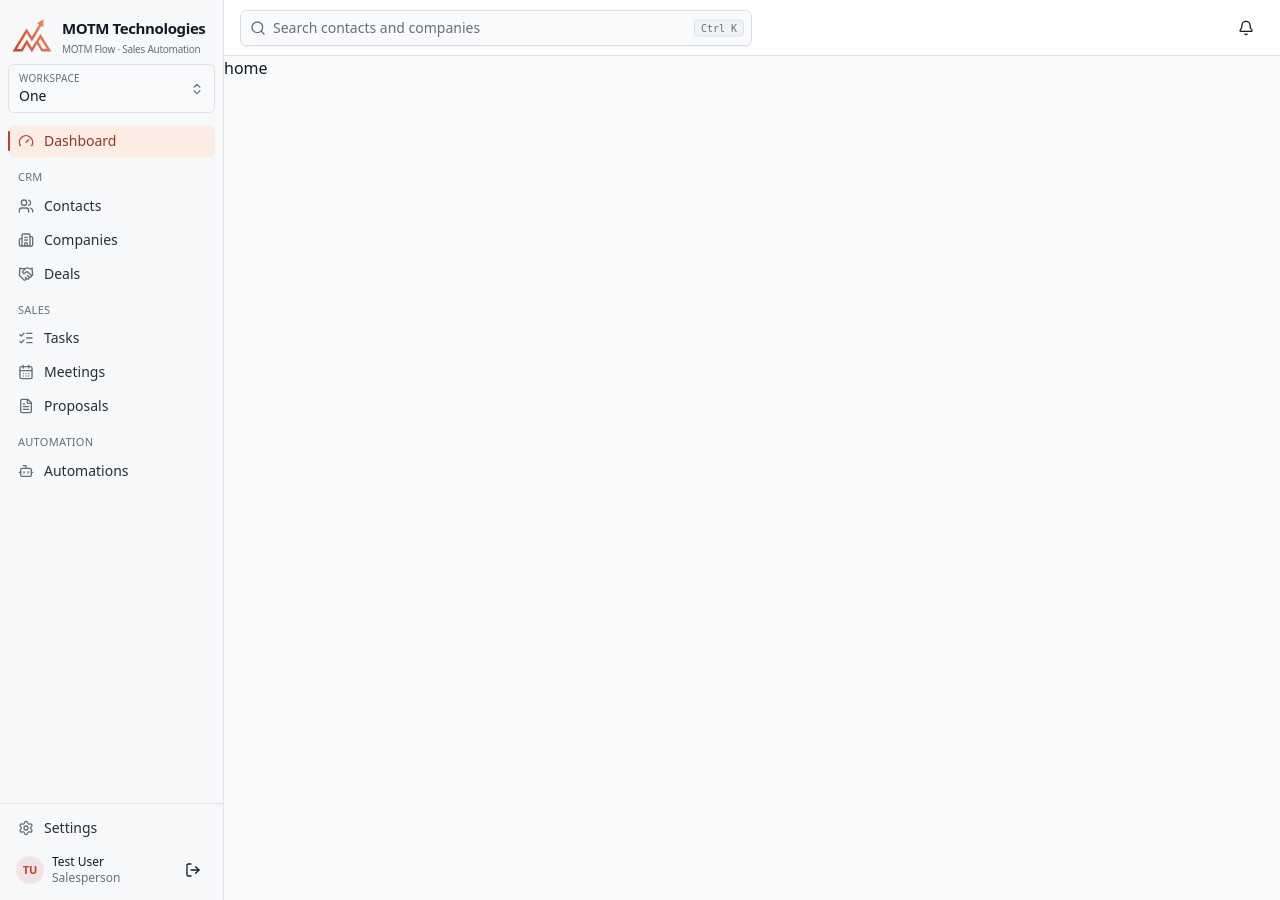
Scenario: AppShell top search bar › closes the dropdown on Escape while keeping the query text
Step 1. Type "Smith" into the dropdown with placeholder "Search contacts and companies" → (496, 28), box [240, 10, 752, 46]
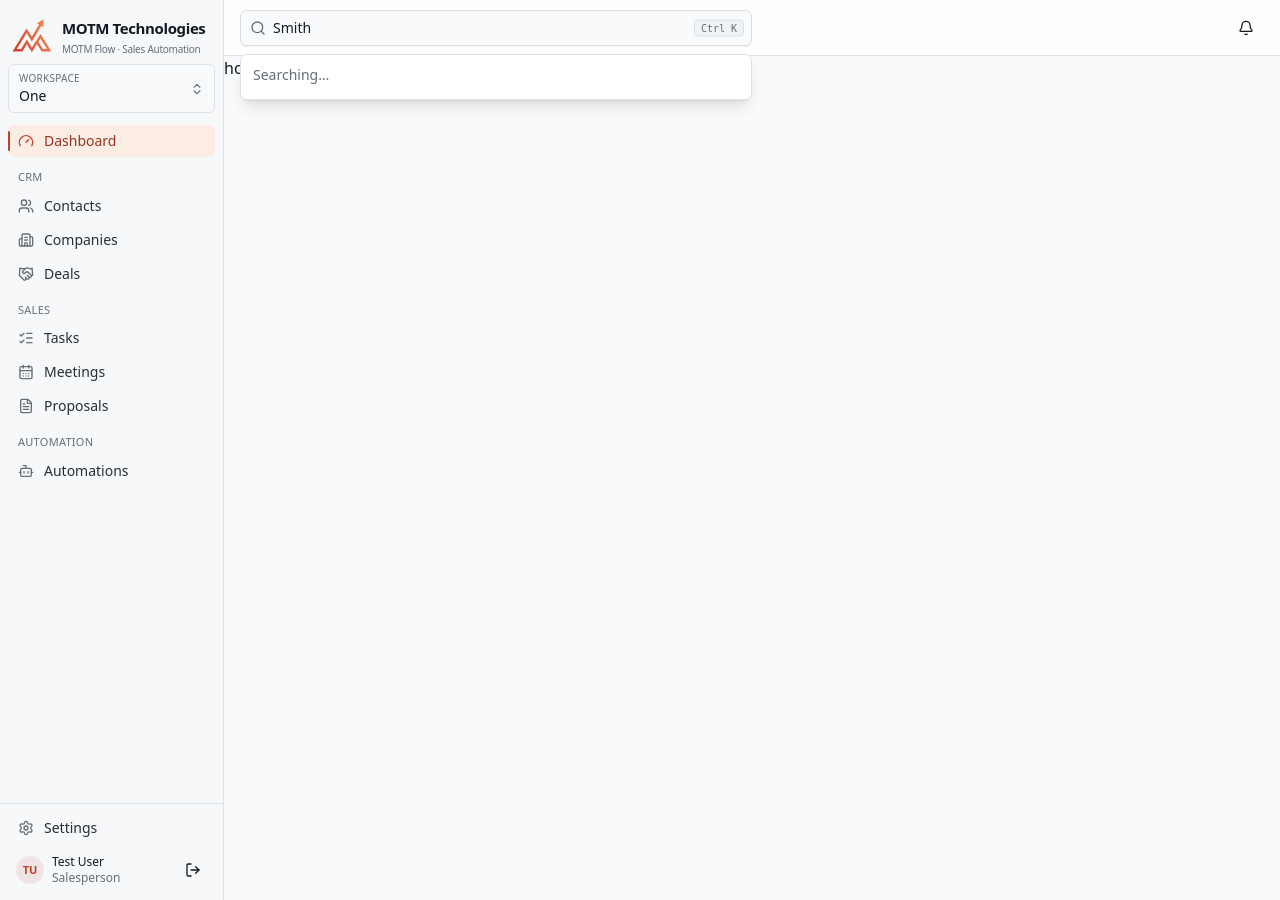
Result: the list is shown at [240, 54, 752, 100]
Step 2. Press Escape in the dropdown with placeholder "Search contacts and companies", box [240, 10, 752, 46]
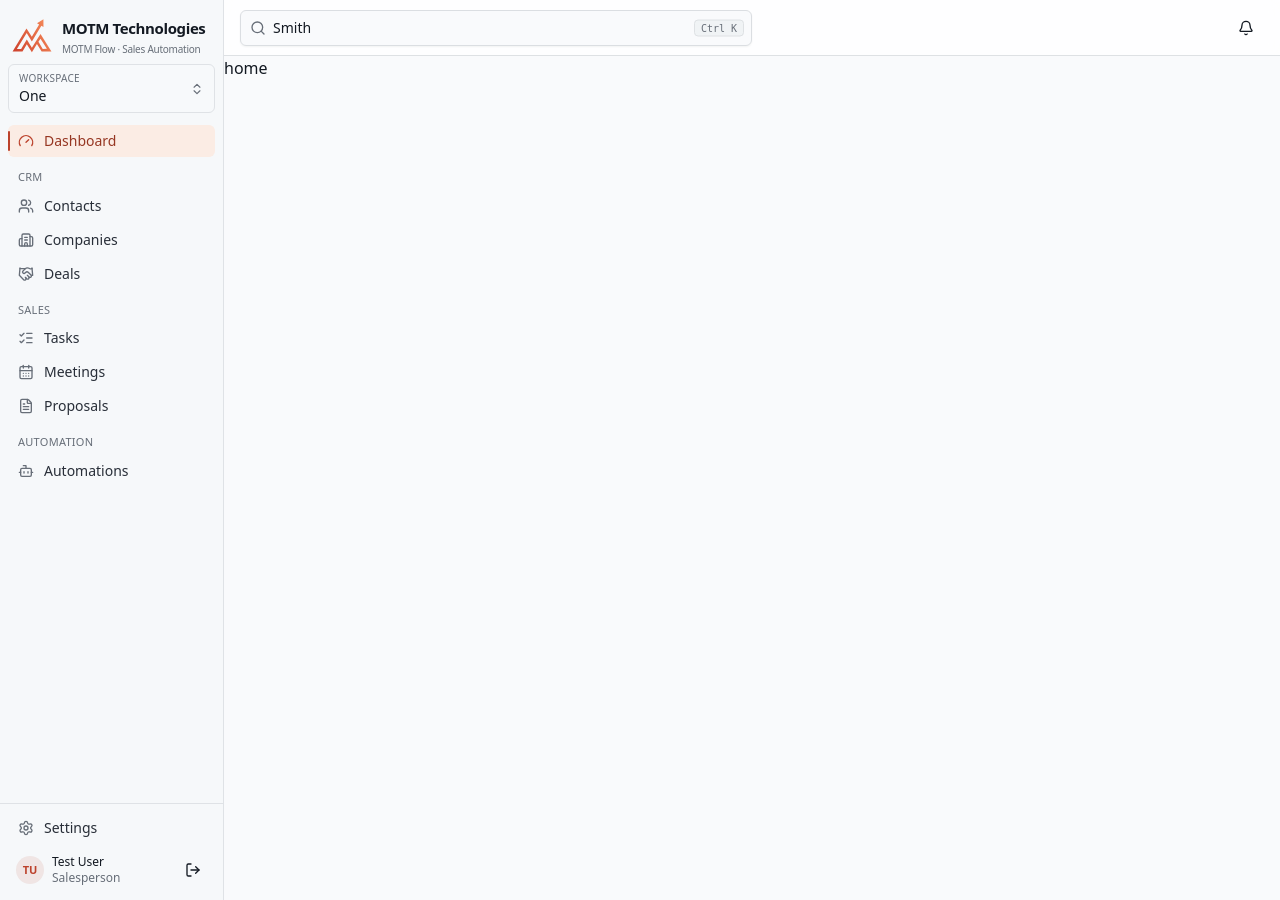
Result: the list is gone
